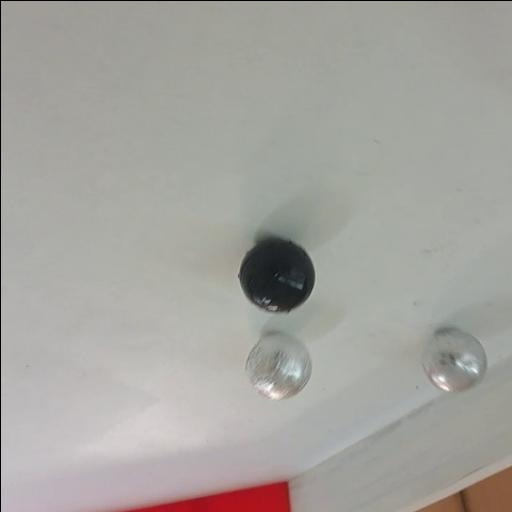alive: (418, 324, 488, 394), (244, 330, 312, 400)
dead: (236, 237, 316, 315)
